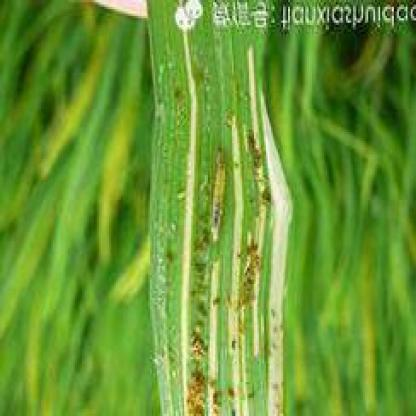leaf-folder: (193, 136, 239, 264)
